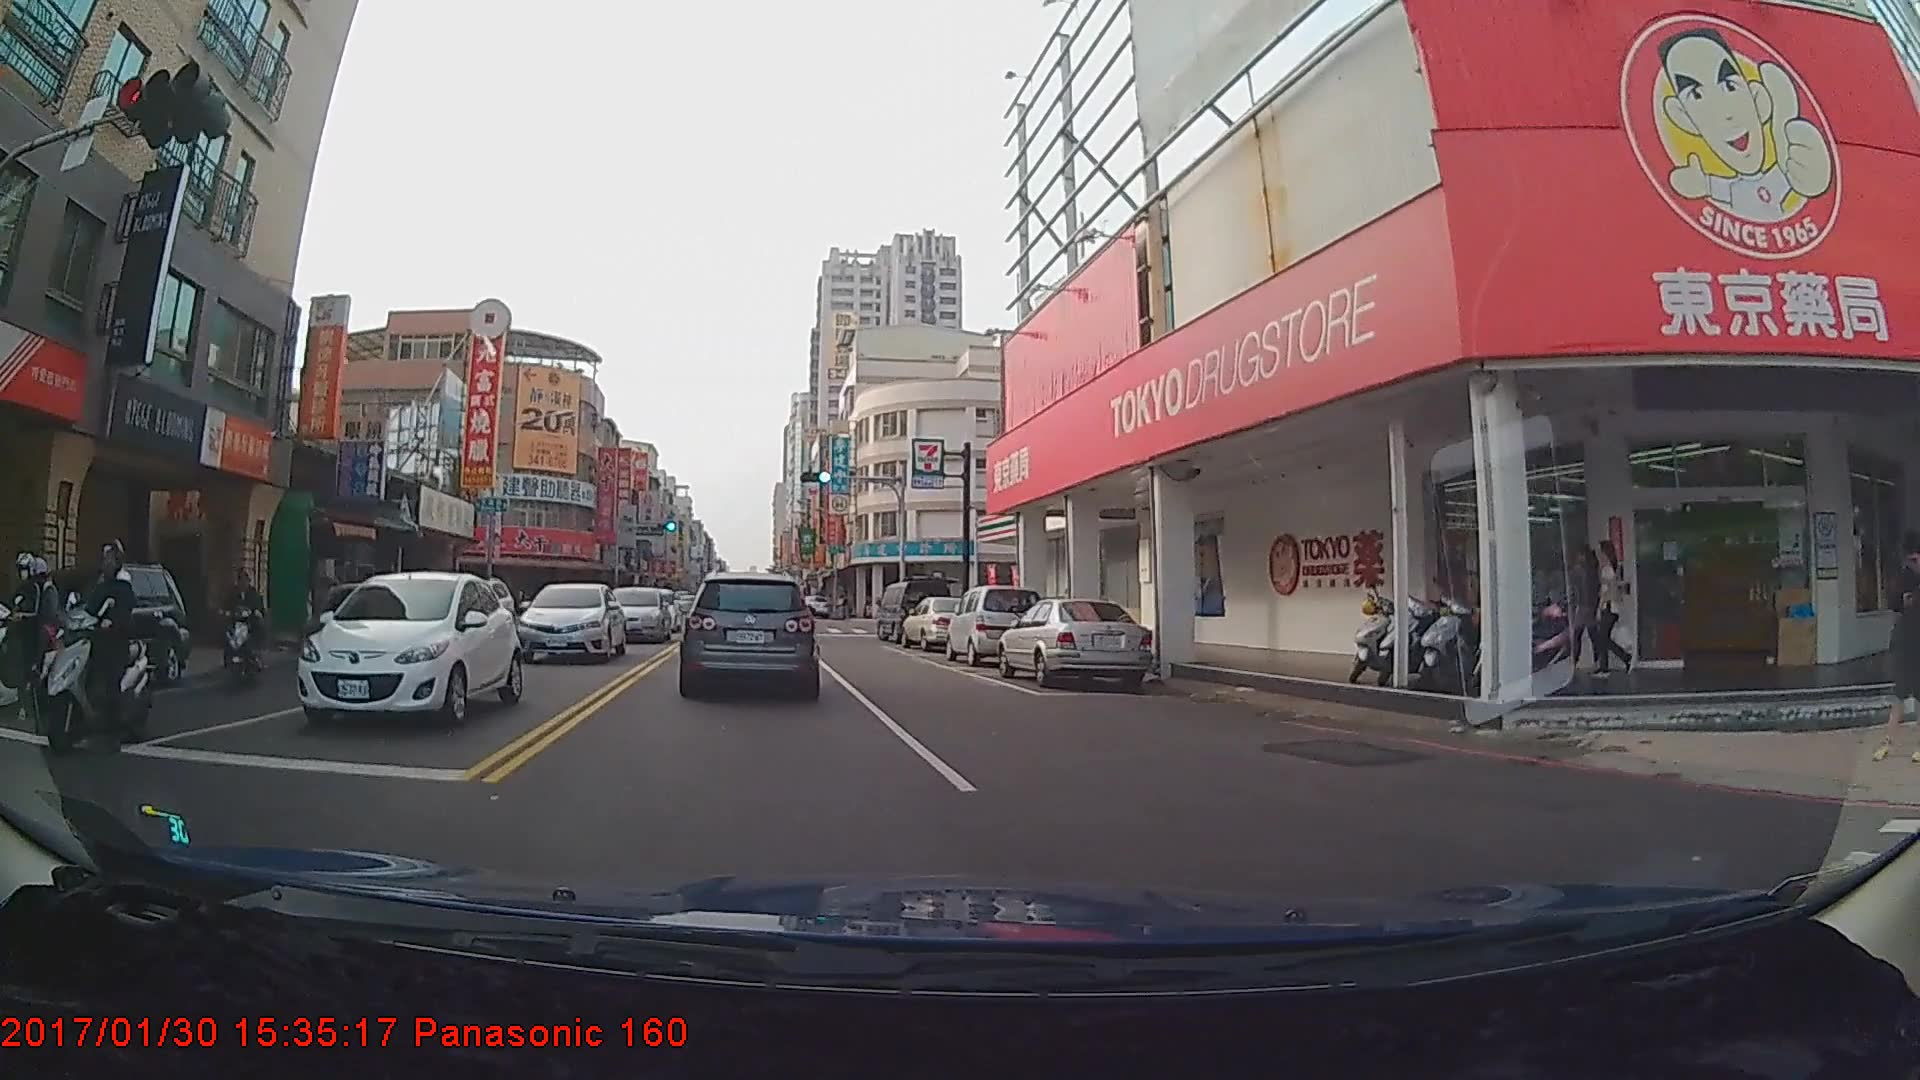pedestrian: (1870, 534, 1920, 760), (1590, 543, 1633, 679), (1567, 544, 1609, 672)
rider: (50, 543, 161, 751), (218, 565, 274, 691)
vehicle: (282, 570, 514, 733), (0, 561, 188, 697), (682, 572, 816, 699), (994, 596, 1152, 695), (514, 583, 625, 664), (944, 587, 1042, 668), (876, 581, 949, 644), (898, 598, 977, 650), (598, 587, 668, 644), (800, 593, 829, 618)
